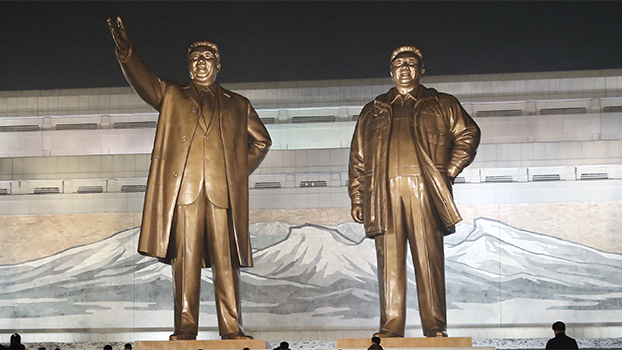person: (544, 319, 579, 350)
person-like: (103, 11, 275, 343), (344, 41, 485, 344)
